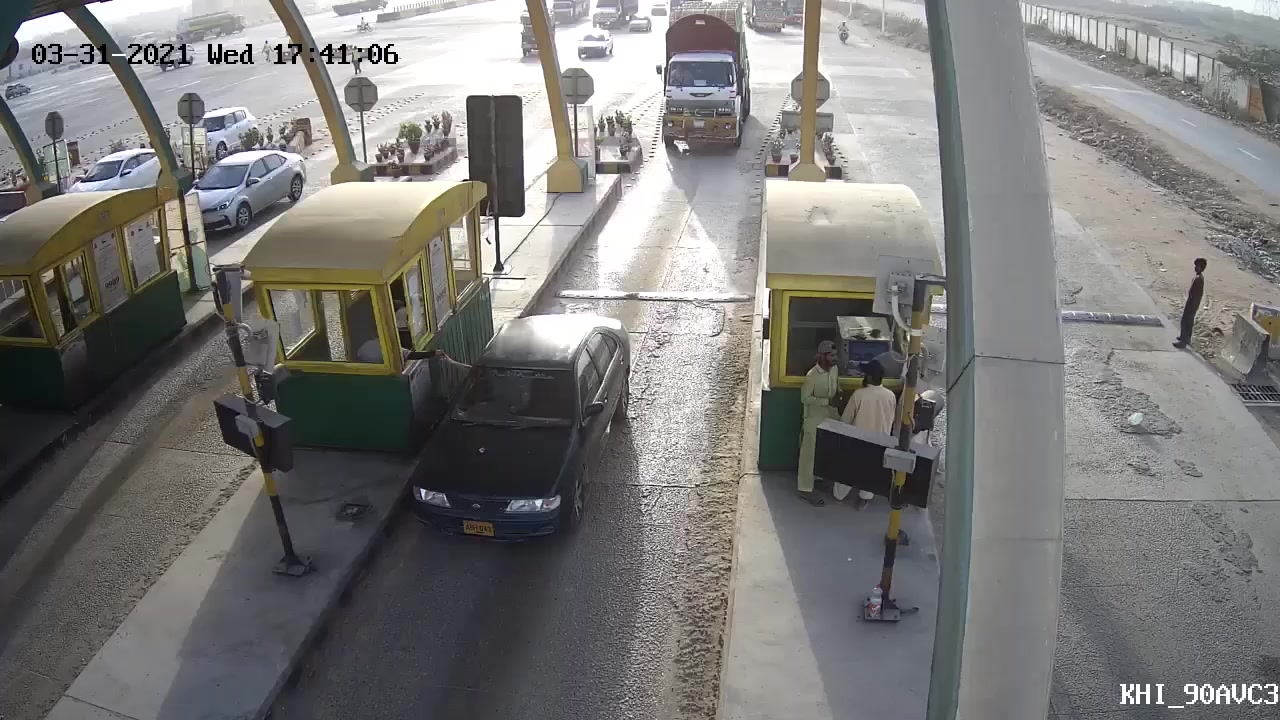F1: (392, 309, 635, 575)
